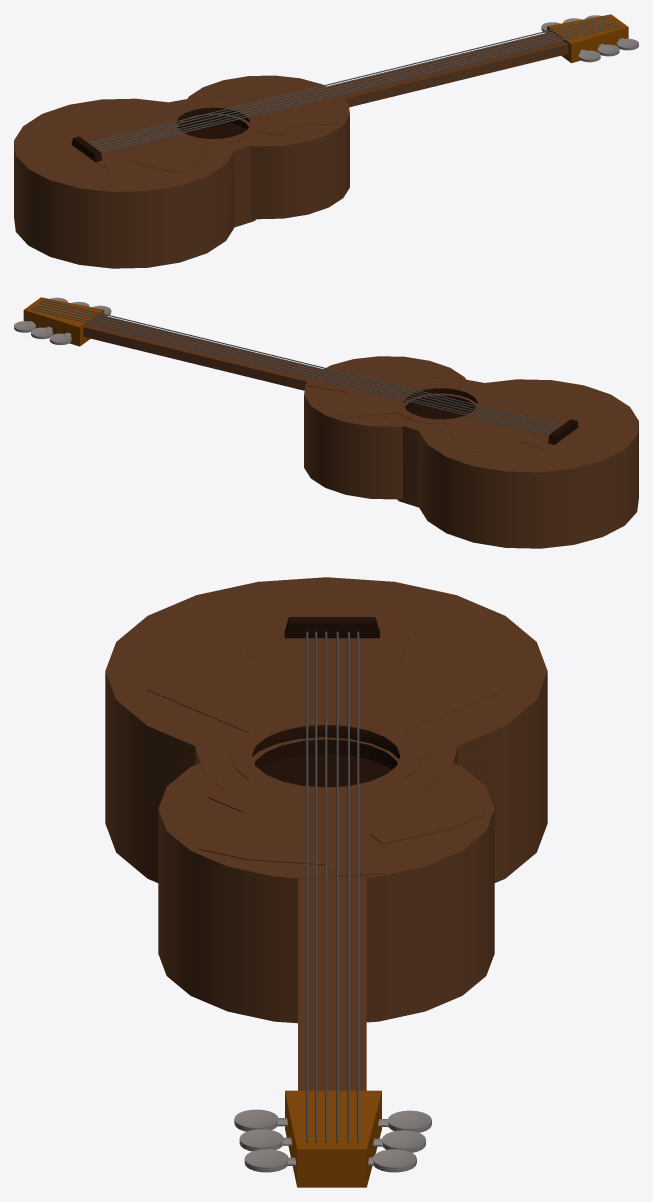
File: guitar.fbx
The picture shows the model from 3 angles, top to bottom: view 1: azimuth 30°, elevation 25°; view 2: azimuth 150°, elevation 25°; view 3: azimuth 270°, elevation 25°; orthographic projection. The views are drawn at different scales.
Parts seen in each view (by area): view 1: group4_pasted__pCylinder7; view 2: group4_pasted__pCylinder7; view 3: group4_pasted__pCylinder7.
Boxes of the visible parts, left/top/right/bottom form: group4_pasted__pCylinder7: left=14, top=14, right=638, bottom=268; group4_pasted__pCylinder7: left=14, top=297, right=638, bottom=548; group4_pasted__pCylinder7: left=105, top=577, right=547, bottom=1187.
Bounding box in the file's own units: 4.73 × 0.6441 × 1.53.
